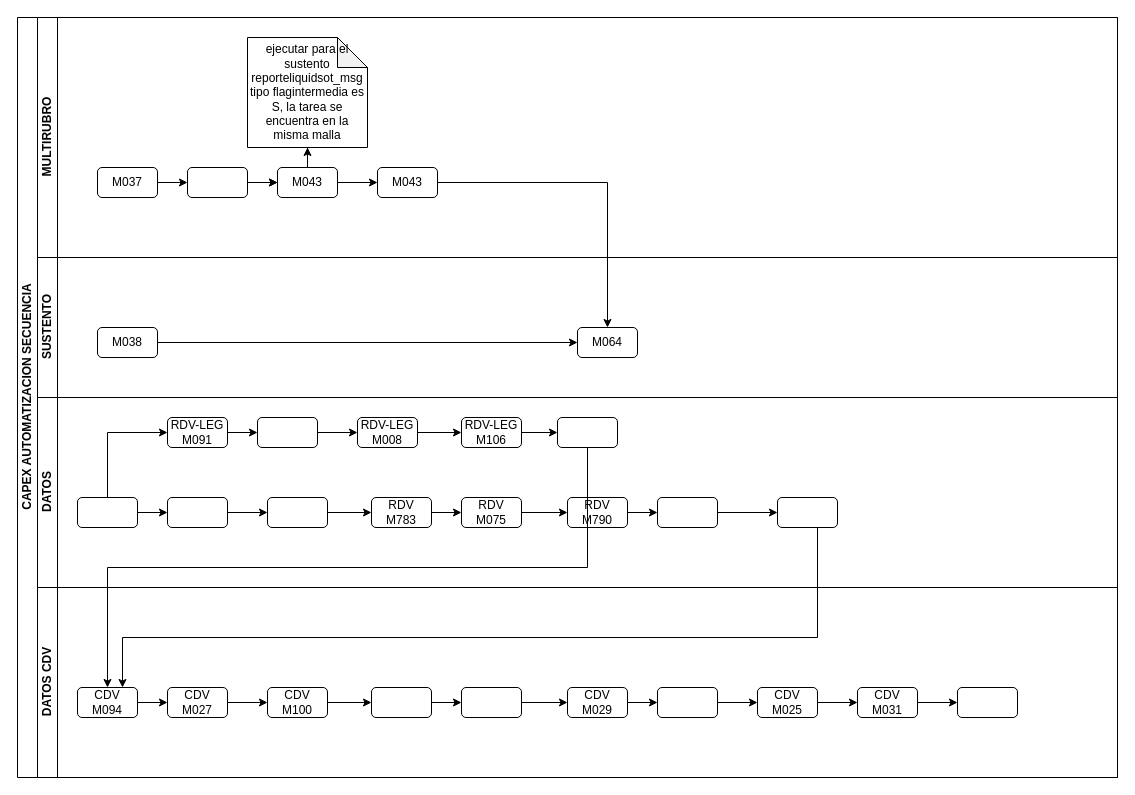
The diagram is 1135 pixels wide and 795 high, and some of its shapes have lost their labels. The shapes that lost their labels are listed below. From the top down, each one's centre as x and y in pixels, then its label:
At point 217,182: "M042".
At point 287,432: "RDV-LEG M791".
At point 587,432: "RDV-LEG M103".
At point 107,512: "STG M011".
At point 197,512: "STG M001".
At point 297,512: "RDV M120".
At point 687,512: "RDV M789".
At point 807,512: "RDV M791".
At point 401,702: "CDV M778".
At point 491,702: "CDV M026".
At point 687,702: "CDV M023".
At point 987,702: "CDV M105".
